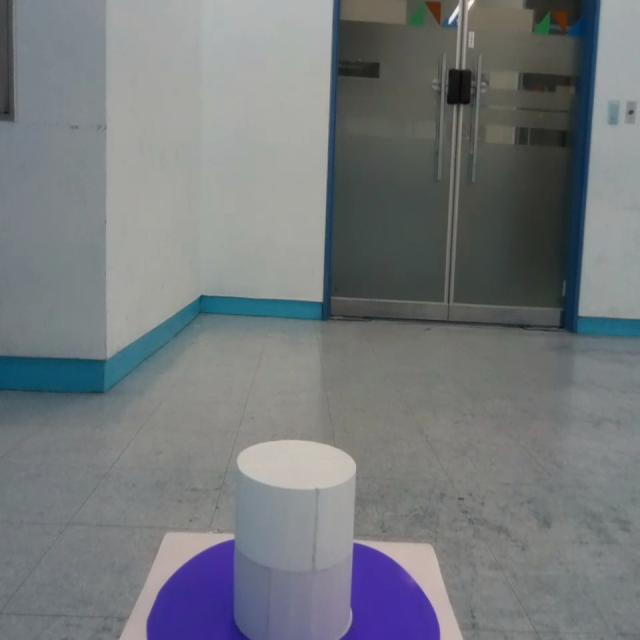cylinder: (231, 438, 357, 638)
